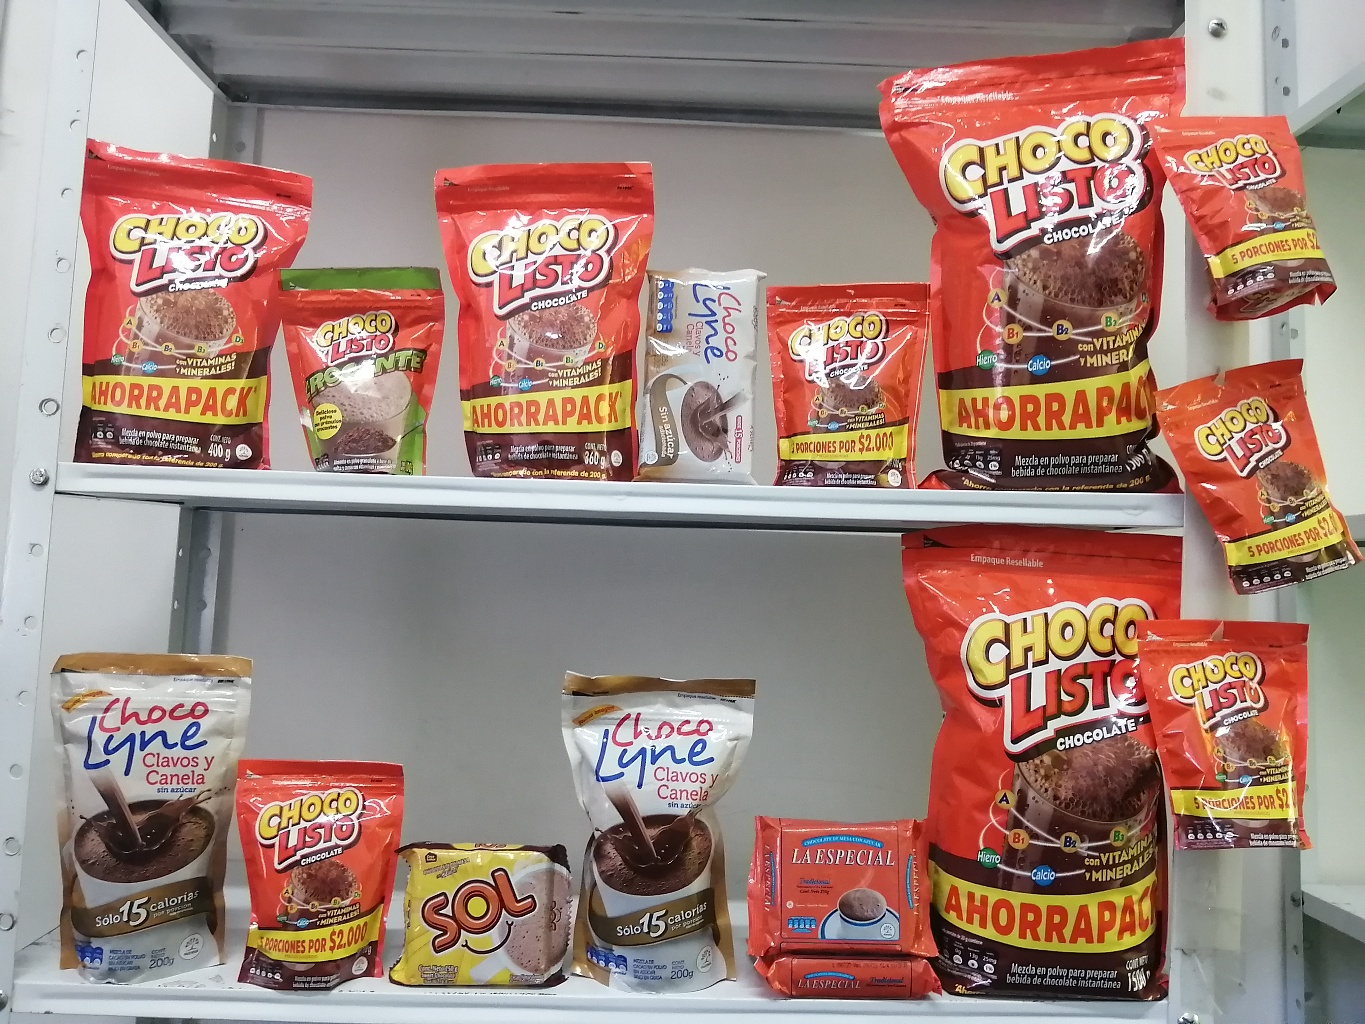COL0170102DYP10000: (258, 252, 459, 486)
COL0170103DYP1,500: (886, 504, 1207, 1012)
COL0170103DYP10000: (1112, 584, 1346, 876)
COL0170103DYP36000: (427, 144, 680, 499)
COL0170103DYP40000: (56, 120, 295, 477)
